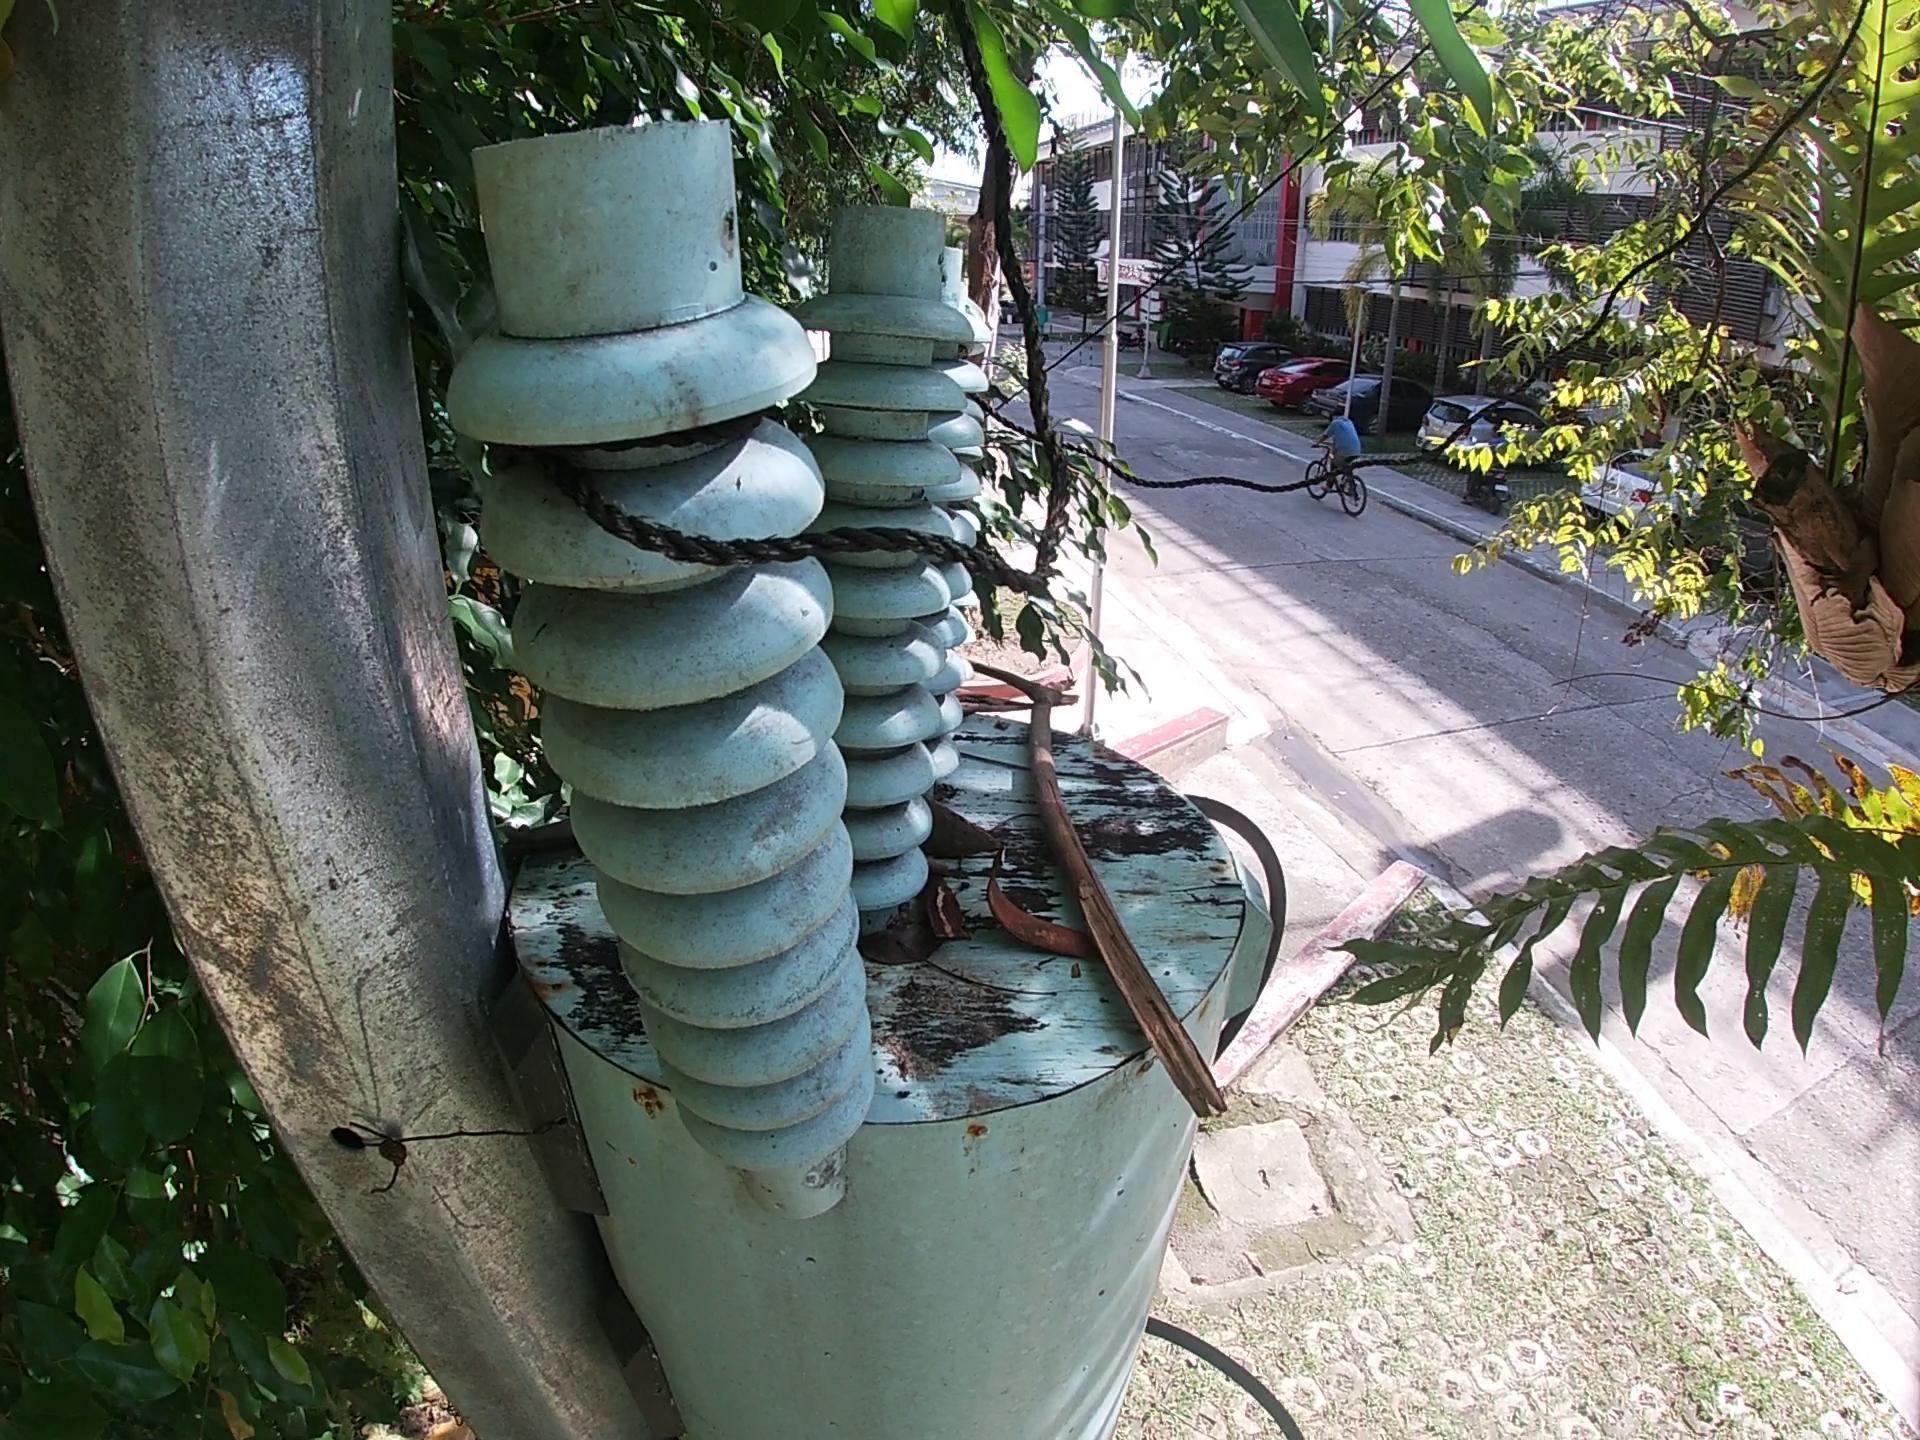leaf: (871, 927, 949, 977)
mahogany fruit: (989, 871, 1070, 974), (925, 809, 1002, 858)
tree branch: (975, 646, 1241, 1125), (931, 964, 1063, 1016), (965, 755, 1131, 790), (927, 885, 992, 967), (954, 687, 1033, 729)
